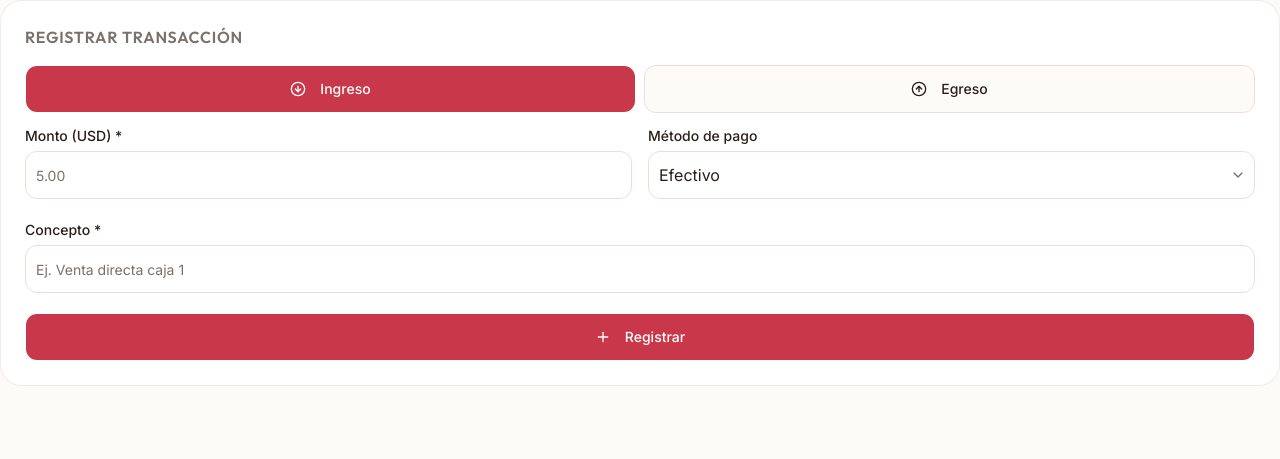
TransactionForm › valida que el monto sea requerido
Click the button "Registrar".
click(640, 337)  # box [25,313,1255,361]
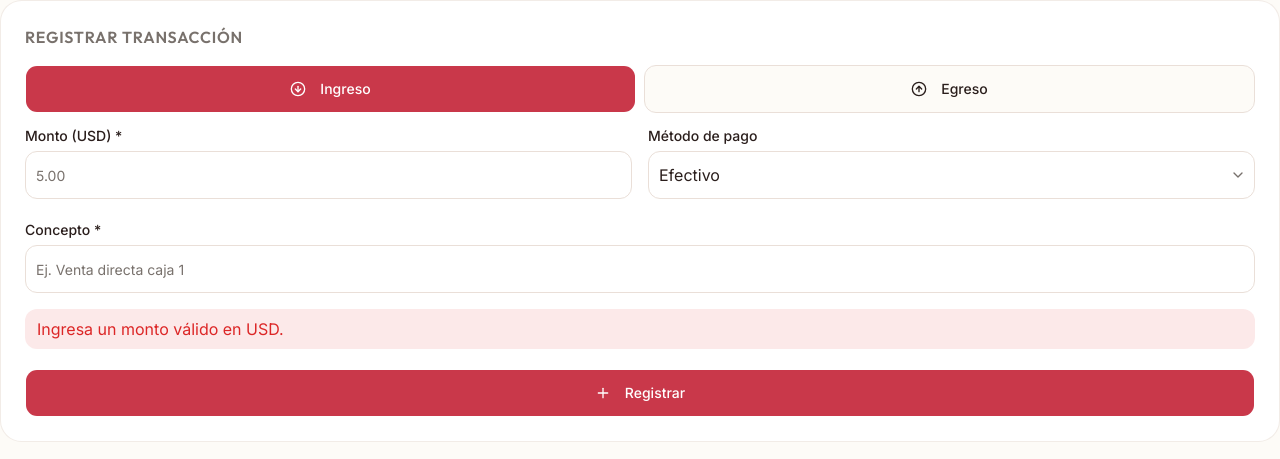
expect the message shows "monto válido": met, box [37,319,284,339]
